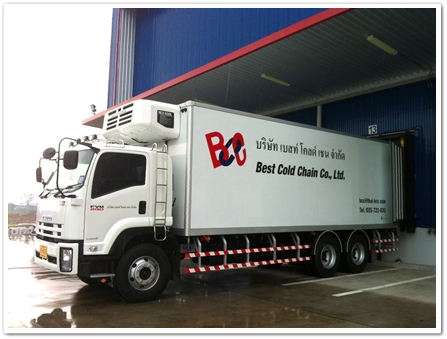truck: (32, 96, 405, 303)
